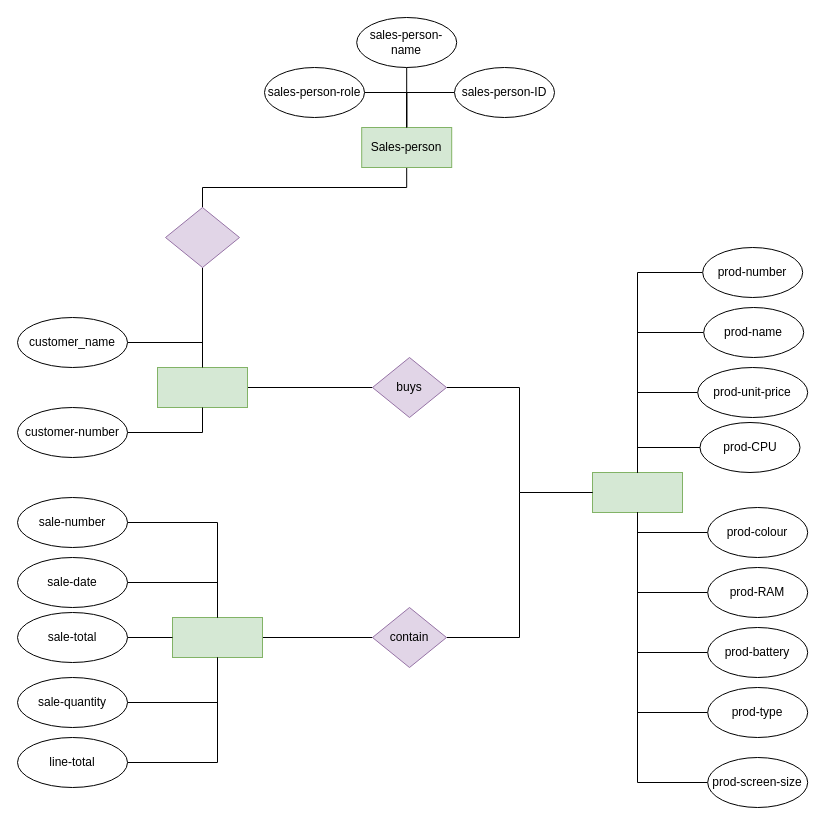
The diagram is 826 pixels wide and 825 high, and some of its shapes have lost their labels. Each missing label, with the centre of its shape:
Customer: point (202, 387)
Product: point (637, 492)
Sale: point (217, 637)
sales to: point (202, 237)
